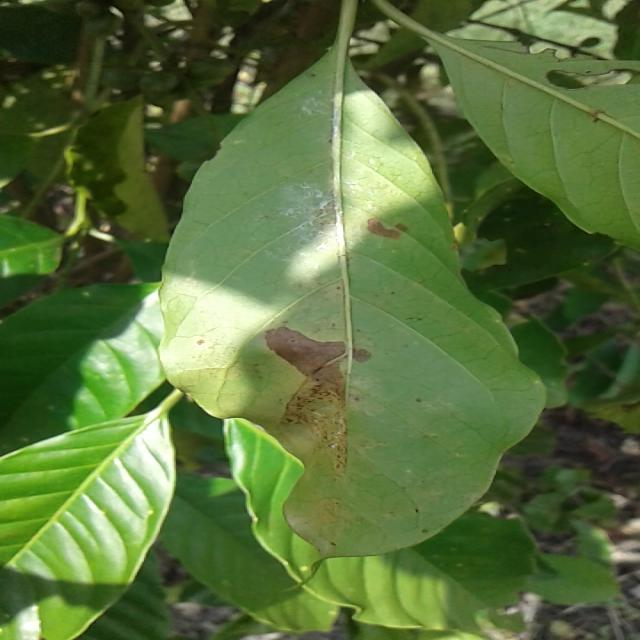Plaga-AranaRoja: (156, 0, 551, 562)
